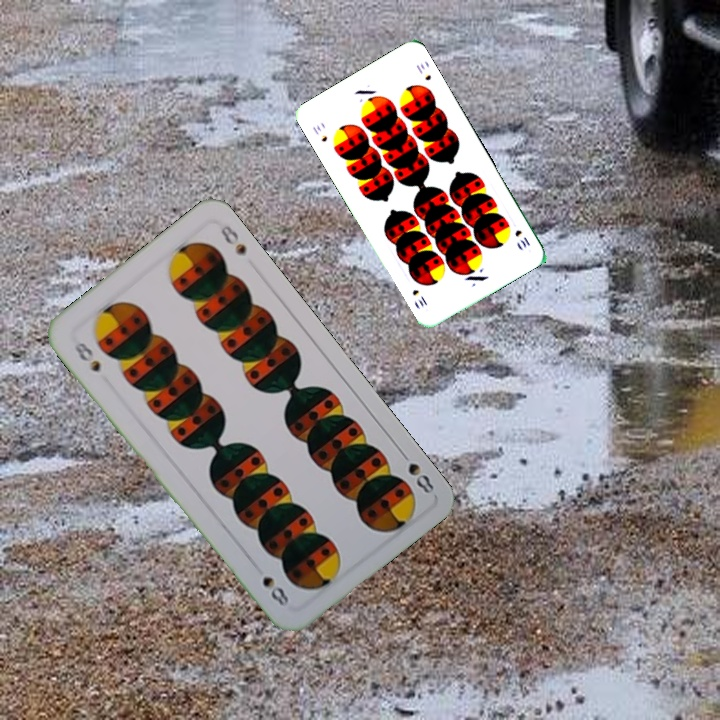S10: (308, 121, 330, 144), (511, 226, 532, 250)
S8: (395, 445, 437, 497), (69, 338, 104, 375)
